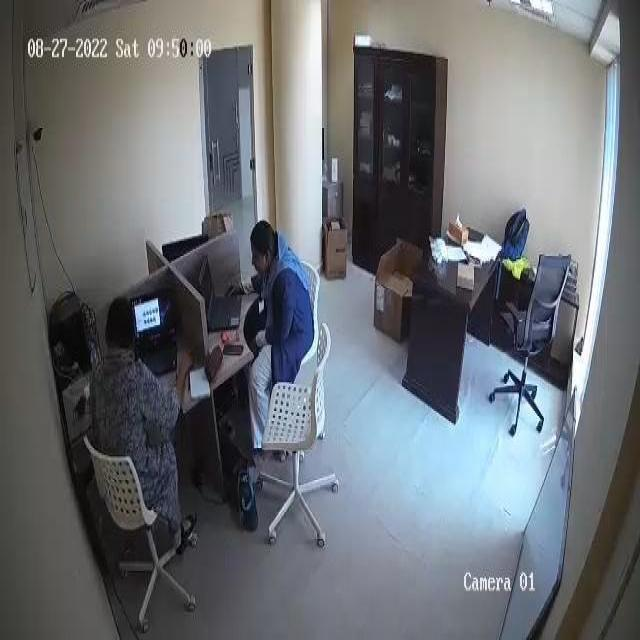bare_hand: (172, 344, 199, 387), (224, 266, 251, 305)
